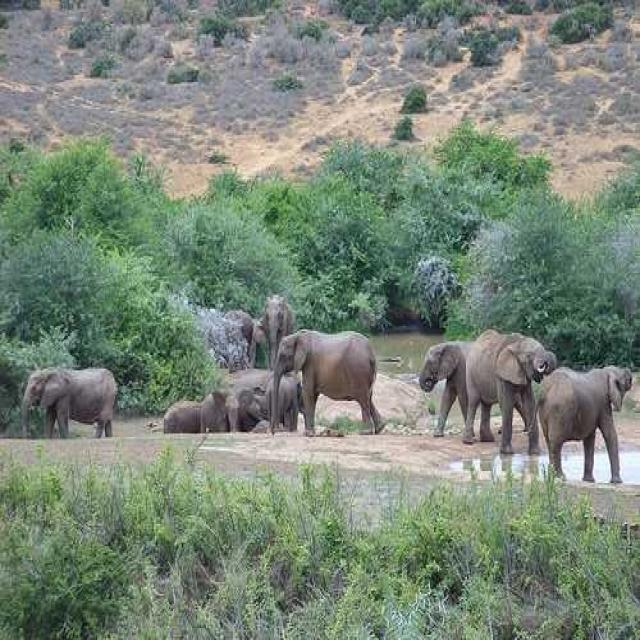Elephant: (268, 328, 384, 435), (530, 364, 634, 483), (461, 328, 557, 454), (20, 365, 118, 439)
